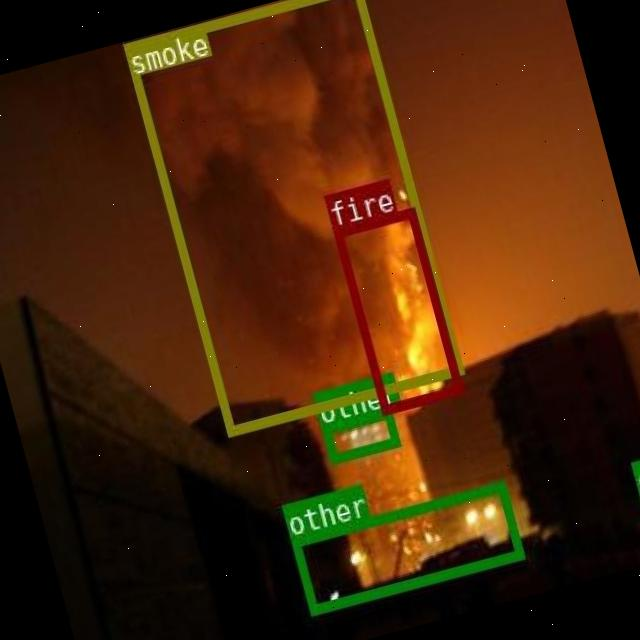fire: (331, 208, 461, 414)
smoke: (120, 0, 462, 435)
